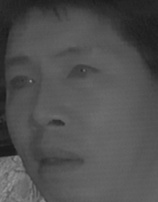eye: (66, 62, 99, 84), (7, 72, 35, 92)
mouth: (30, 144, 88, 178)
